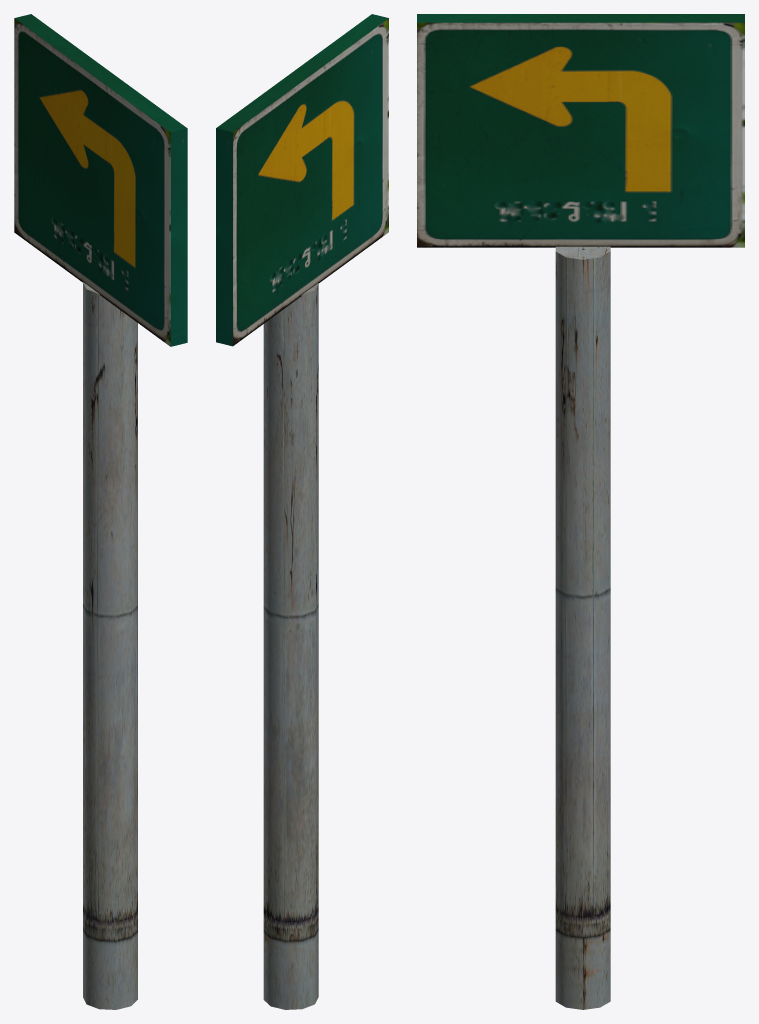
File: sign13.FBX
3 renders of one model, left to right at view 1: azimuth 30°, elevation 25°; view 2: azimuth 150°, elevation 25°; view 3: azimuth 270°, elevation 25°, orthographic. The views are drawn at different scales.
Visible parts, largest first — view 1: Cylinder002; view 2: Cylinder002; view 3: Cylinder002.
Part boxes in pixels (bbox=[...]): Cylinder002: bbox=[14, 14, 187, 1009]; Cylinder002: bbox=[216, 14, 388, 1009]; Cylinder002: bbox=[417, 14, 744, 1009].
Bounding box in the file's own units: 1.4 × 25.98 × 7.92.
